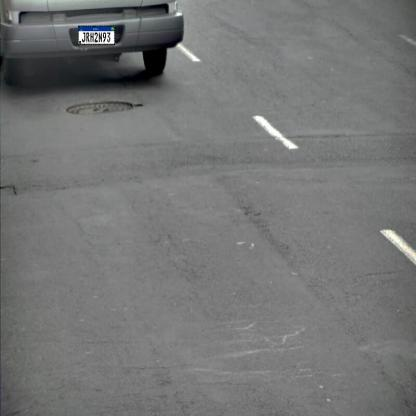PlacaM: (78, 26, 115, 45)
